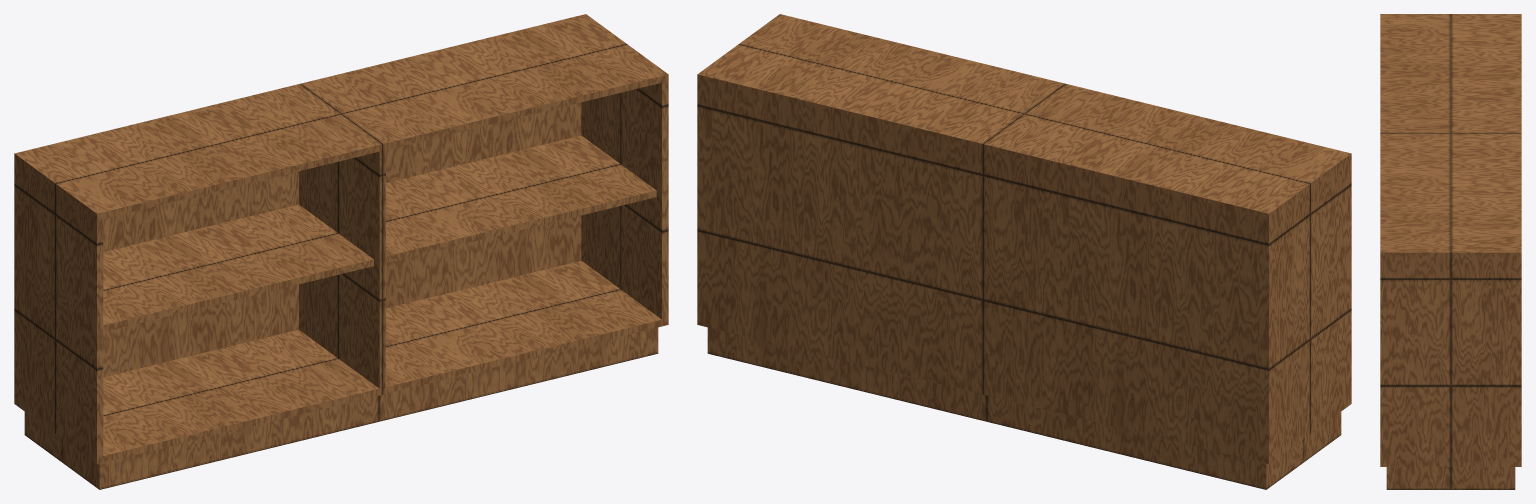
Rendered from TV_szekreny.obj.
3 renders of one model, left to right at view 1: azimuth 30°, elevation 25°; view 2: azimuth 150°, elevation 25°; view 3: azimuth 270°, elevation 25°, orthographic. The views are drawn at different scales.
Size of the model in its own units: 1.6 by 0.75 by 0.4.
Materials: 1 (1 with a texture image).
